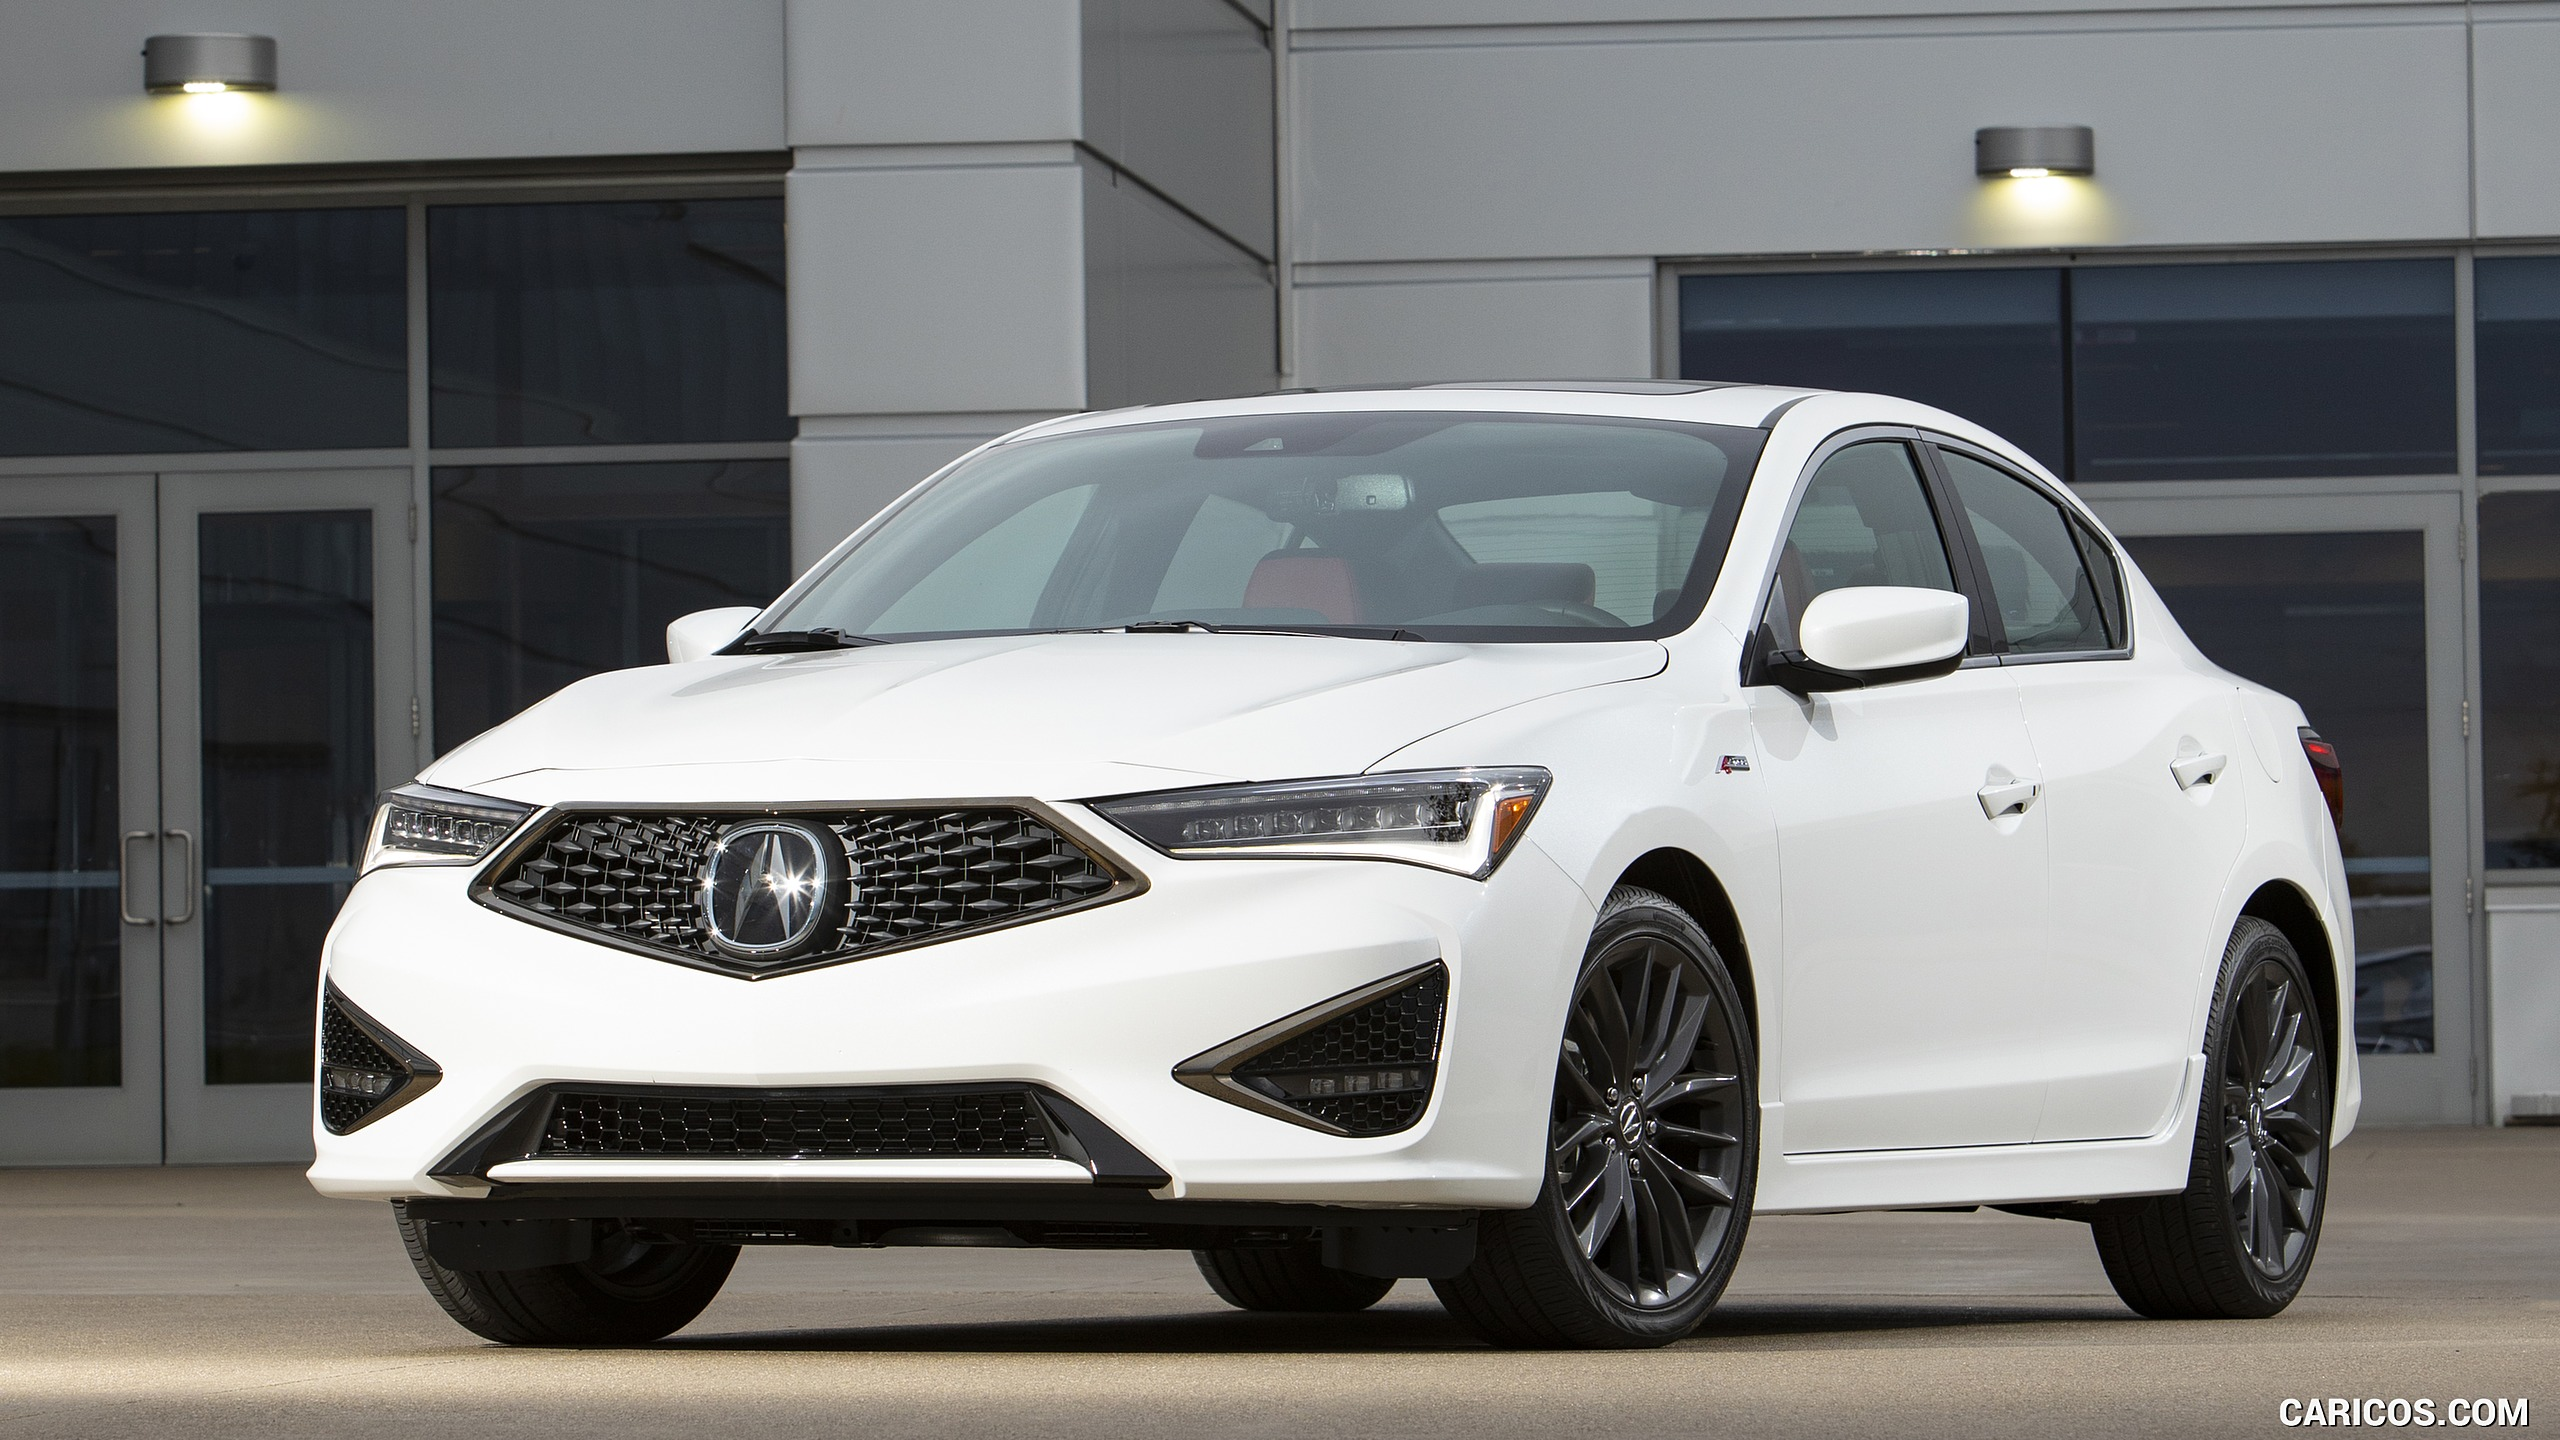Fog Lamp & Scope: (1254, 976, 1451, 1131)
Front: (308, 644, 1691, 1213)
Front Bumper: (304, 958, 1560, 1213)
Grill: (526, 809, 1088, 964)
Headlight: (1146, 770, 1551, 869)
